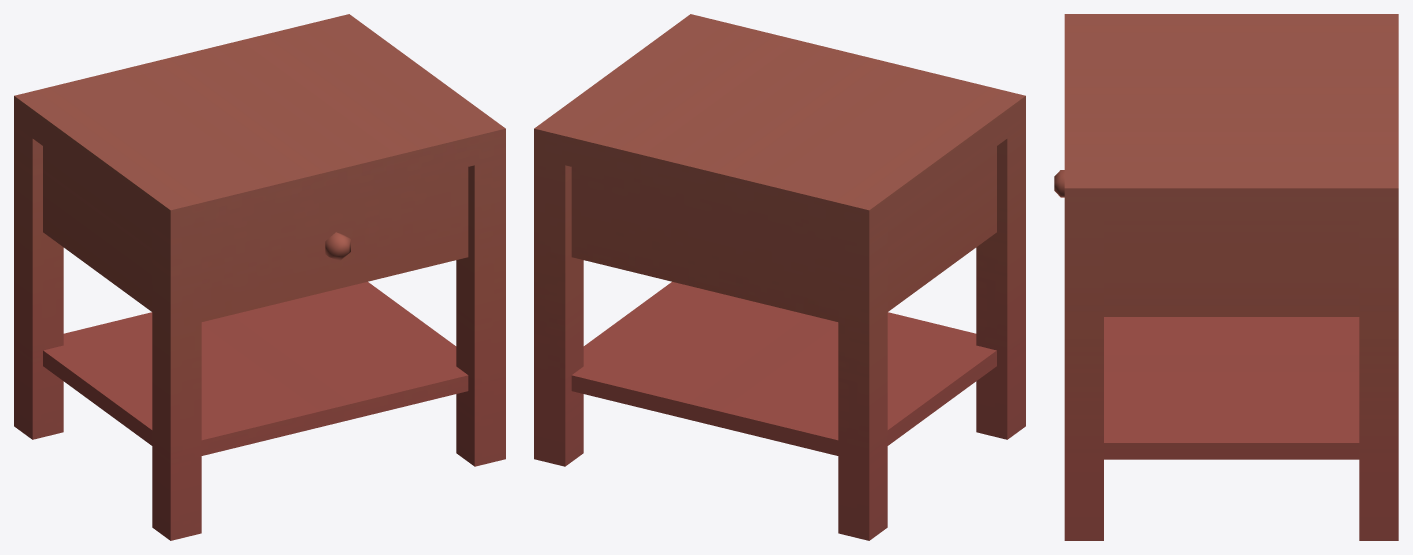
File: SM_Bedside_Table_1_04.fbx
The picture shows the model from 3 angles, left to right: view 1: azimuth 30°, elevation 25°; view 2: azimuth 150°, elevation 25°; view 3: azimuth 270°, elevation 25°; orthographic projection. The views are drawn at different scales.
Parts seen in each view (by area): view 1: SM_Bedside_Table_1_04; view 2: SM_Bedside_Table_1_04; view 3: SM_Bedside_Table_1_04.
Part boxes in pixels (x1,y1,x2,y2): SM_Bedside_Table_1_04: [14, 14, 505, 540]; SM_Bedside_Table_1_04: [534, 14, 1025, 540]; SM_Bedside_Table_1_04: [1054, 14, 1398, 540].
Size of the model in its own units: 84.95 by 80.06 by 70.85.
